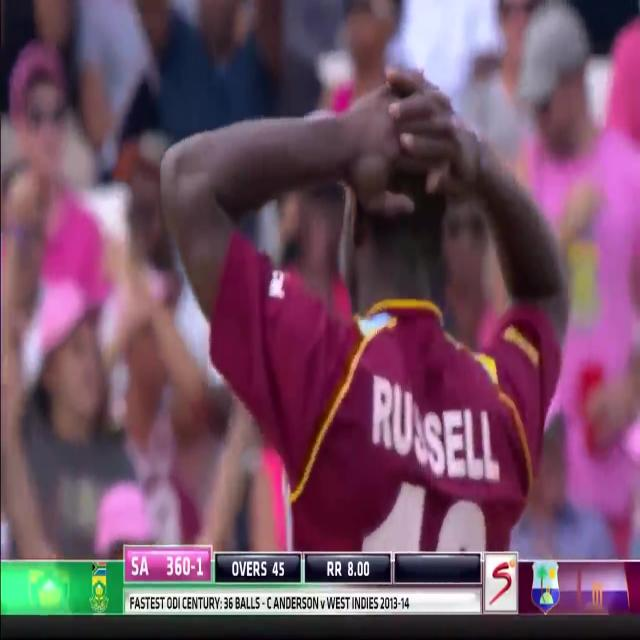Fielder: (25, 6, 610, 552)
